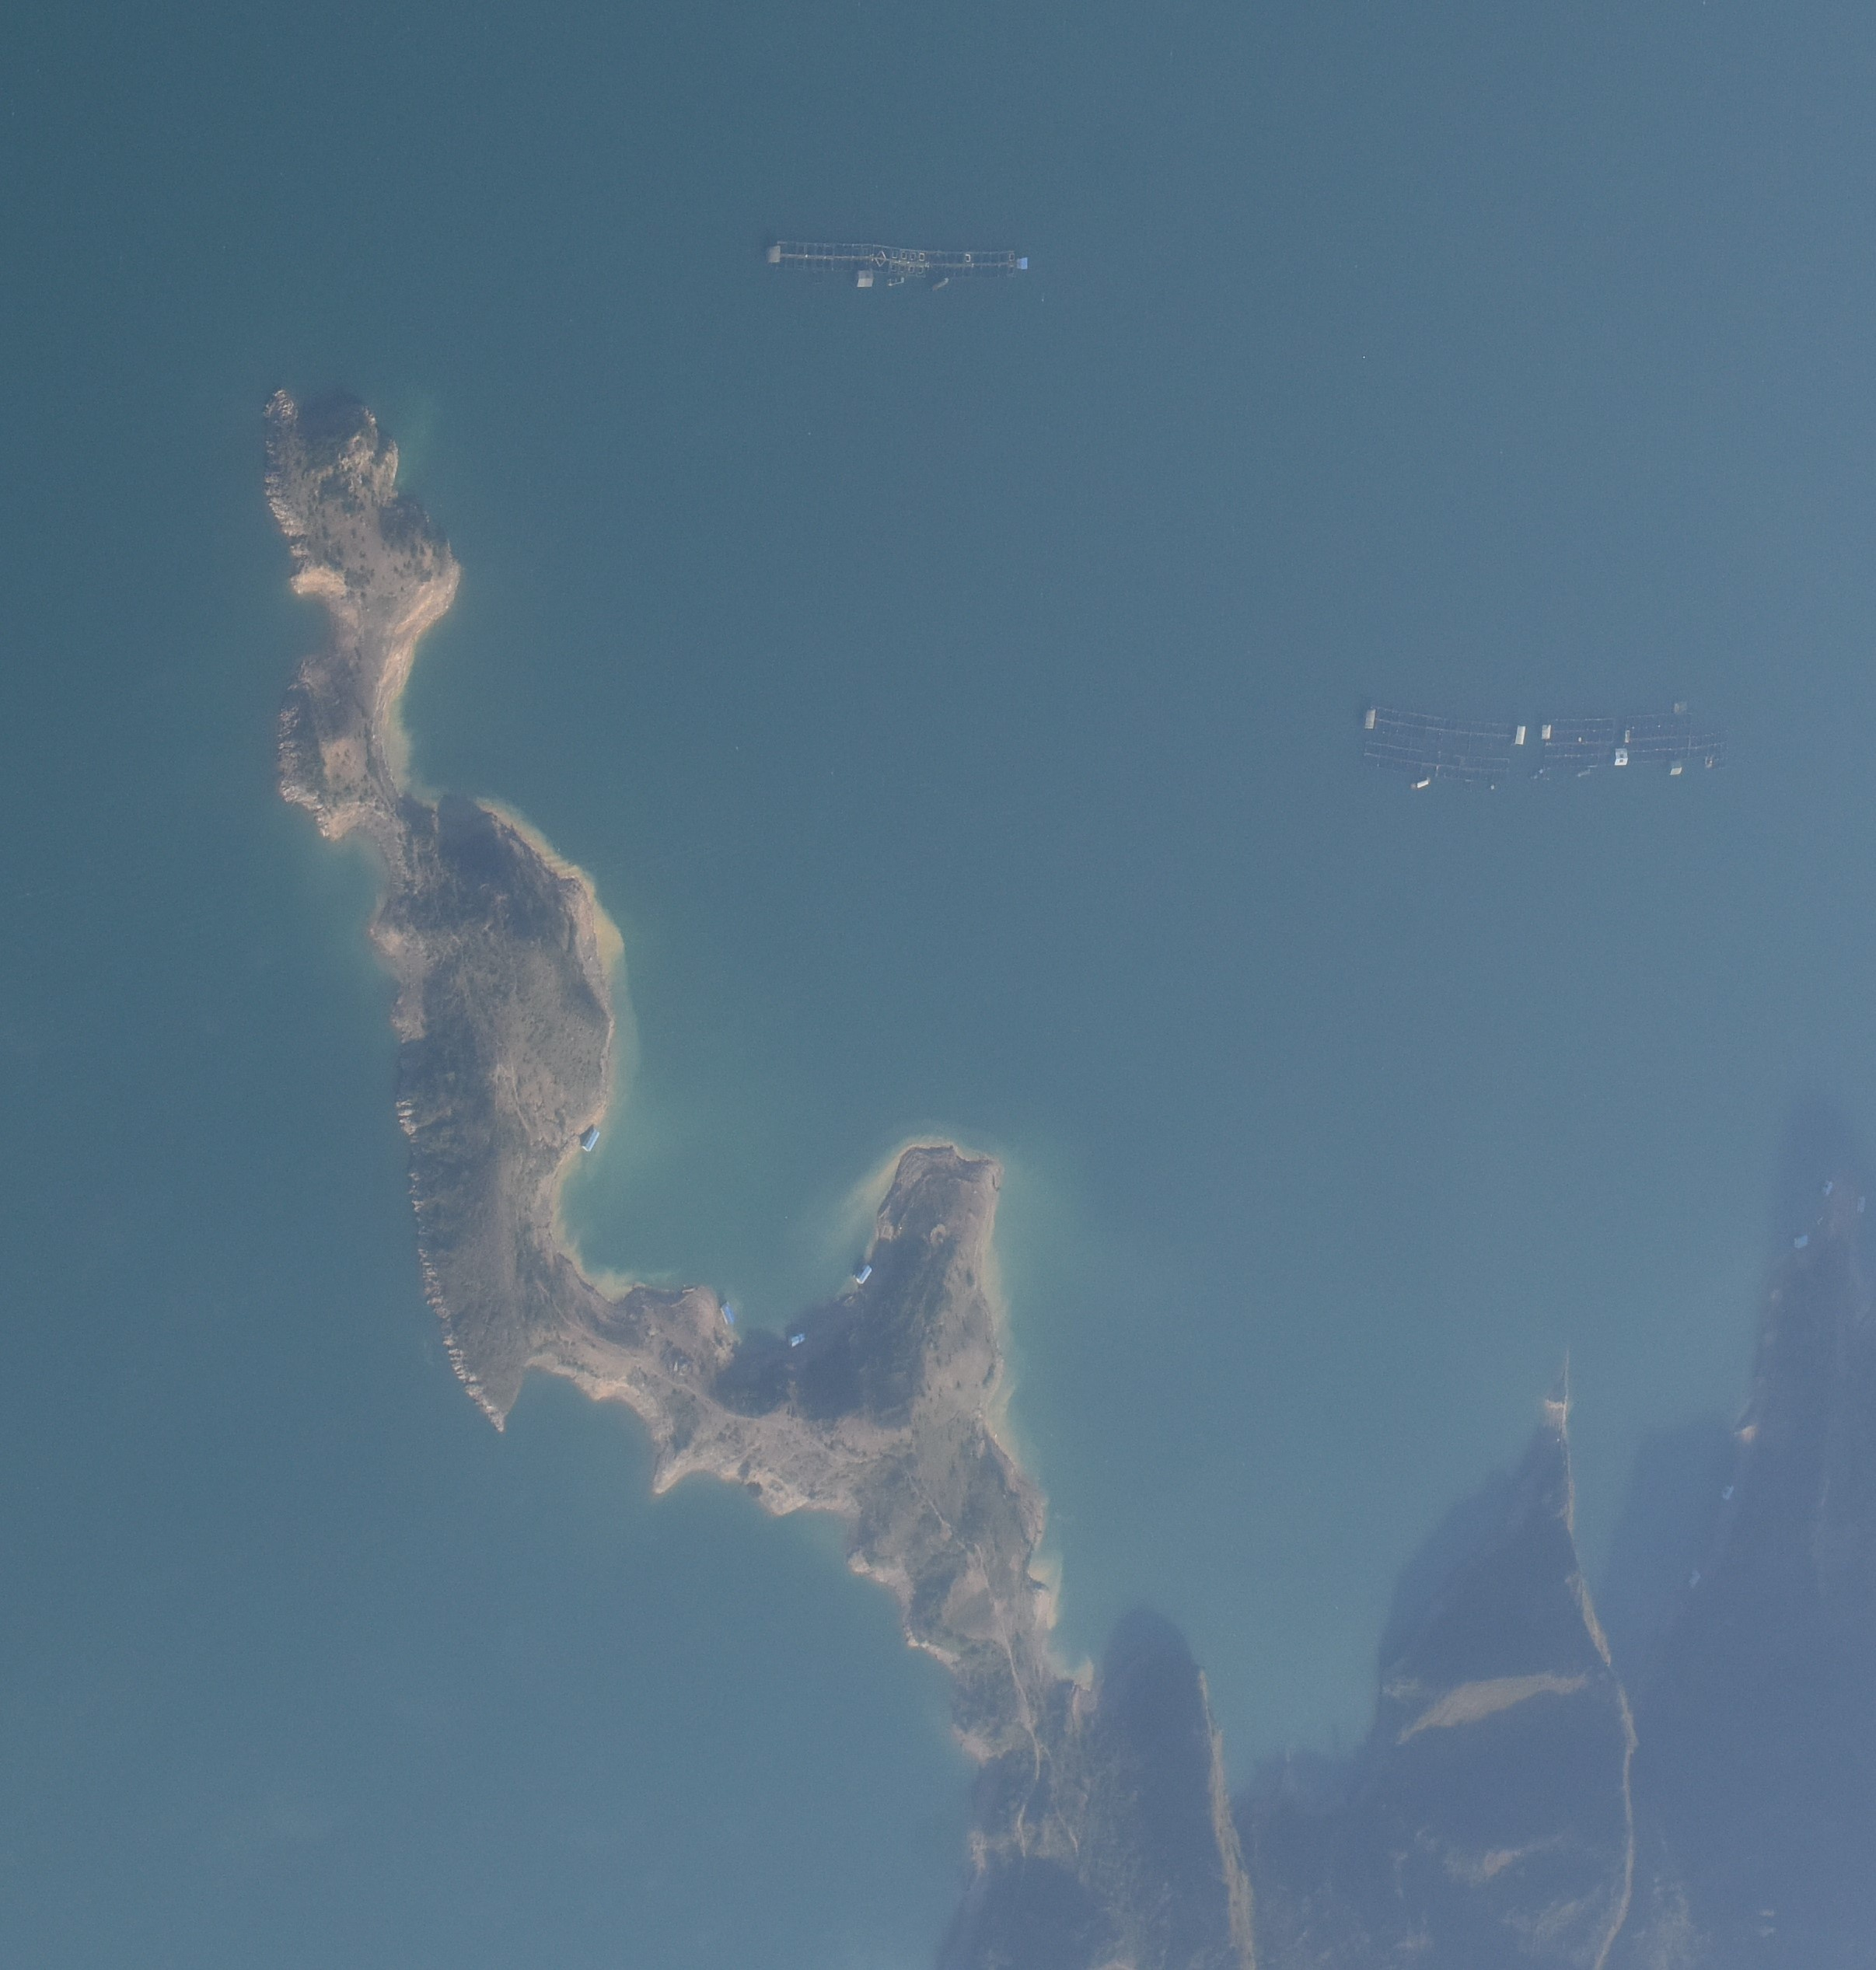cultivation-mesh-cage: (1364, 705, 1516, 788), (1544, 712, 1730, 762), (779, 237, 898, 274), (897, 248, 1018, 276)
prefabricated-house: (582, 1126, 600, 1152), (854, 1265, 874, 1284), (721, 1302, 735, 1328), (858, 269, 874, 288), (788, 1332, 807, 1347), (1612, 748, 1628, 765), (1364, 704, 1375, 728), (1792, 1233, 1809, 1247), (1688, 1569, 1700, 1588), (1721, 1481, 1734, 1500), (1821, 1178, 1832, 1200), (1669, 760, 1683, 776), (768, 244, 781, 262), (1674, 702, 1691, 714), (1857, 1194, 1867, 1214), (1516, 725, 1526, 744), (1542, 723, 1551, 741), (1016, 257, 1029, 269), (1625, 728, 1630, 744)
ship: (930, 276, 948, 294), (1408, 777, 1431, 790), (886, 276, 904, 288)
